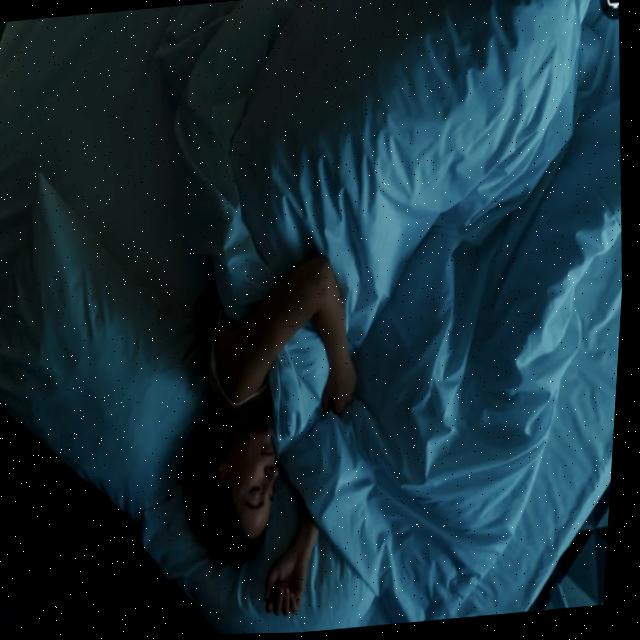sleeping-person: (144, 0, 628, 637)
